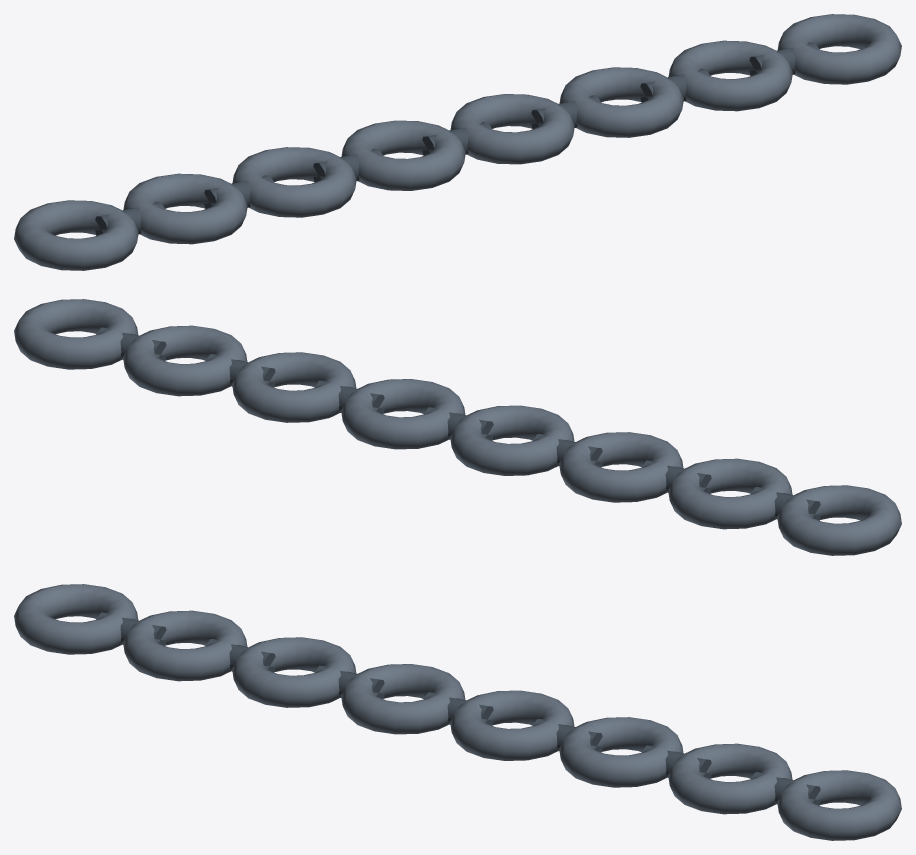
The model's file is chain.glb.
The picture shows the model from 3 angles, top to bottom: view 1: azimuth 30°, elevation 25°; view 2: azimuth 150°, elevation 25°; view 3: azimuth 330°, elevation 25°; orthographic projection.
Size of the model in its own units: 1.76 by 0.06 by 0.22.
